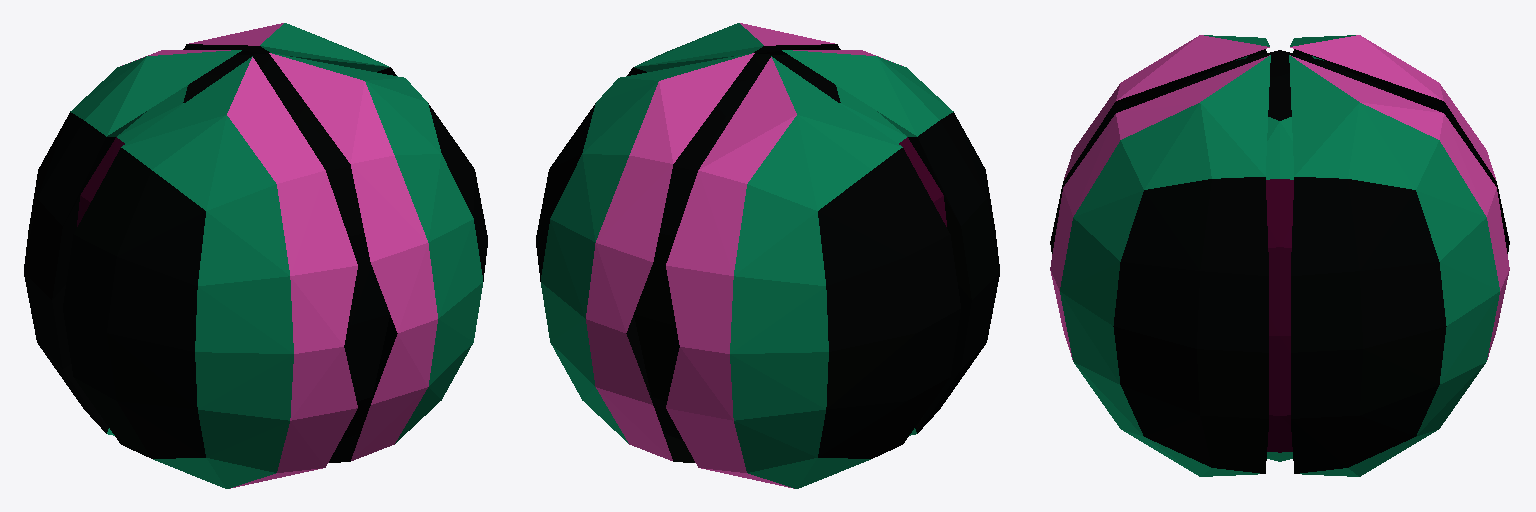
File: MiniRobot.obj
The picture shows the model from 3 angles: view 1: azimuth 30°, elevation 25°; view 2: azimuth 150°, elevation 25°; view 3: azimuth 270°, elevation 25°; orthographic projection.
Visible parts, largest first — view 1: Roundcube.002, Roundcube, Roundcube.003, Roundcube.007; view 2: Roundcube.002, Roundcube, Roundcube.003, Roundcube.007; view 3: Roundcube, Roundcube.002, Roundcube.003, Roundcube.007.
Boxes of the visible parts, x1,y1,x2,y2 form: Roundcube.002: [70, 23, 482, 488]; Roundcube: [24, 44, 487, 462]; Roundcube.003: [122, 23, 437, 488]; Roundcube.007: [77, 137, 124, 226]; Roundcube.002: [541, 23, 953, 488]; Roundcube: [536, 44, 999, 462]; Roundcube.003: [586, 23, 901, 488]; Roundcube.007: [899, 137, 946, 226]; Roundcube: [1050, 49, 1509, 473]; Roundcube.002: [1060, 35, 1499, 476]; Roundcube.003: [1050, 35, 1509, 359]; Roundcube.007: [1266, 179, 1293, 452].
Bounding box in the file's own units: 1.95 × 1.92 × 1.95.